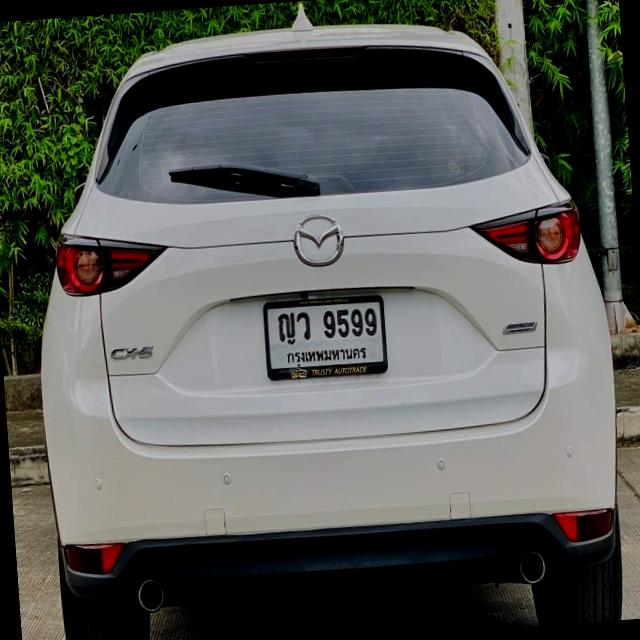license_plate: (262, 290, 388, 383)
